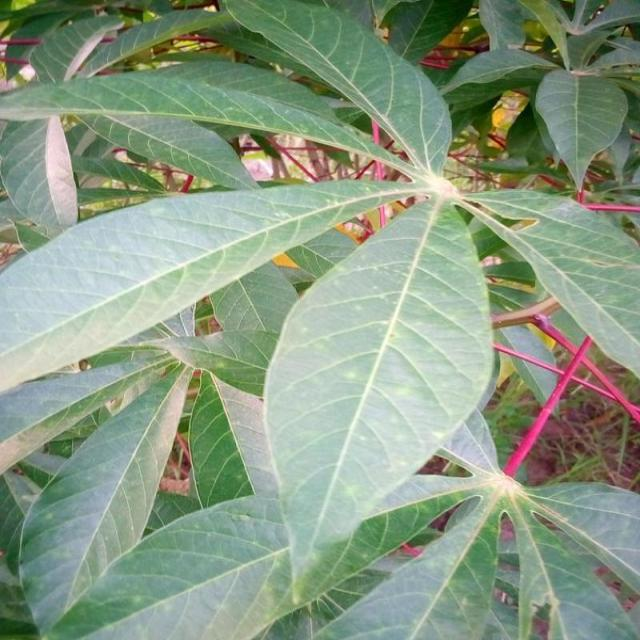cassava leaf: (0, 1, 638, 638), (261, 194, 497, 605), (0, 176, 418, 394)
